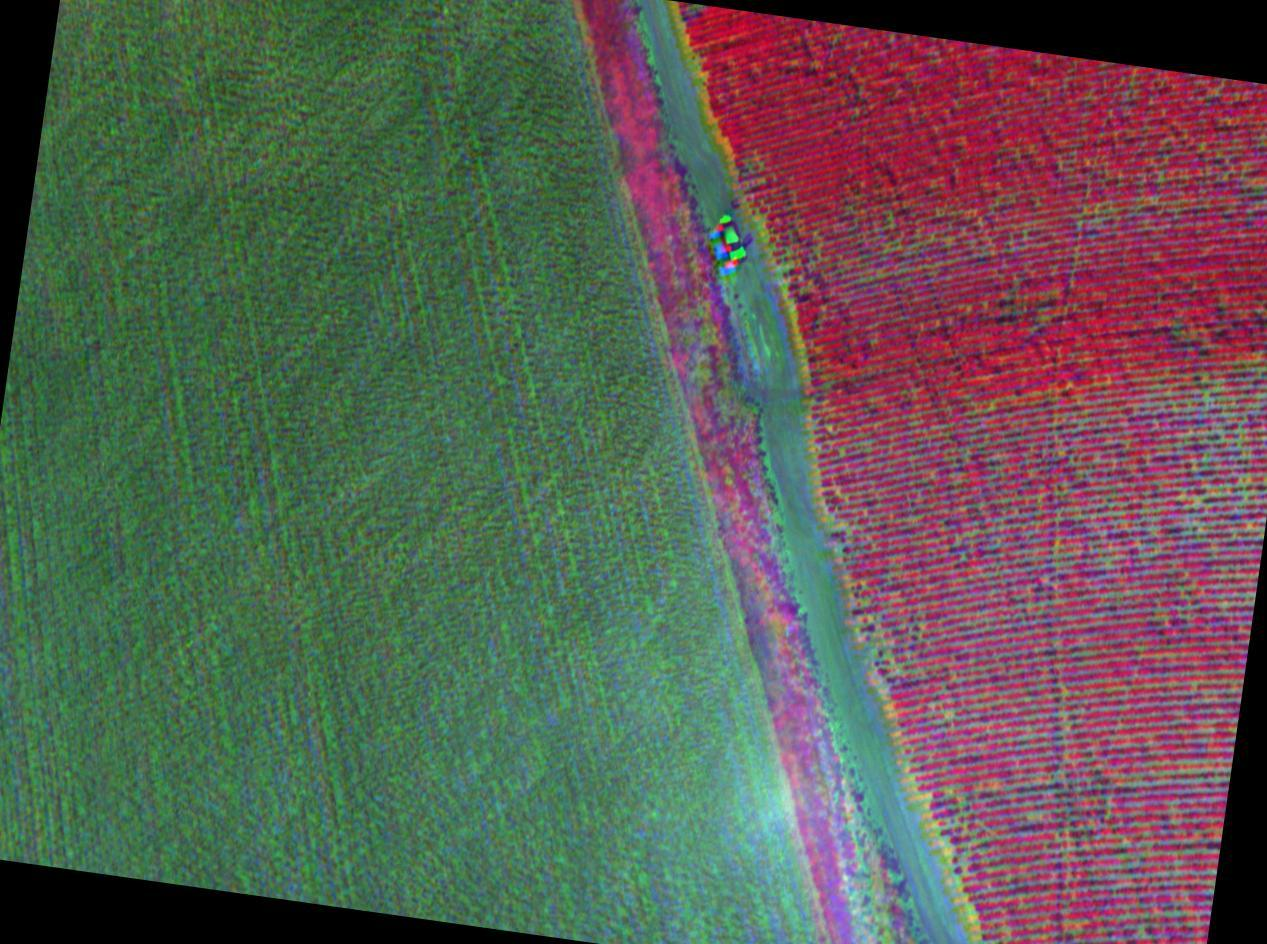dc: (1156, 380, 1261, 444), (1180, 450, 1254, 530), (851, 614, 924, 672), (827, 505, 878, 565)
